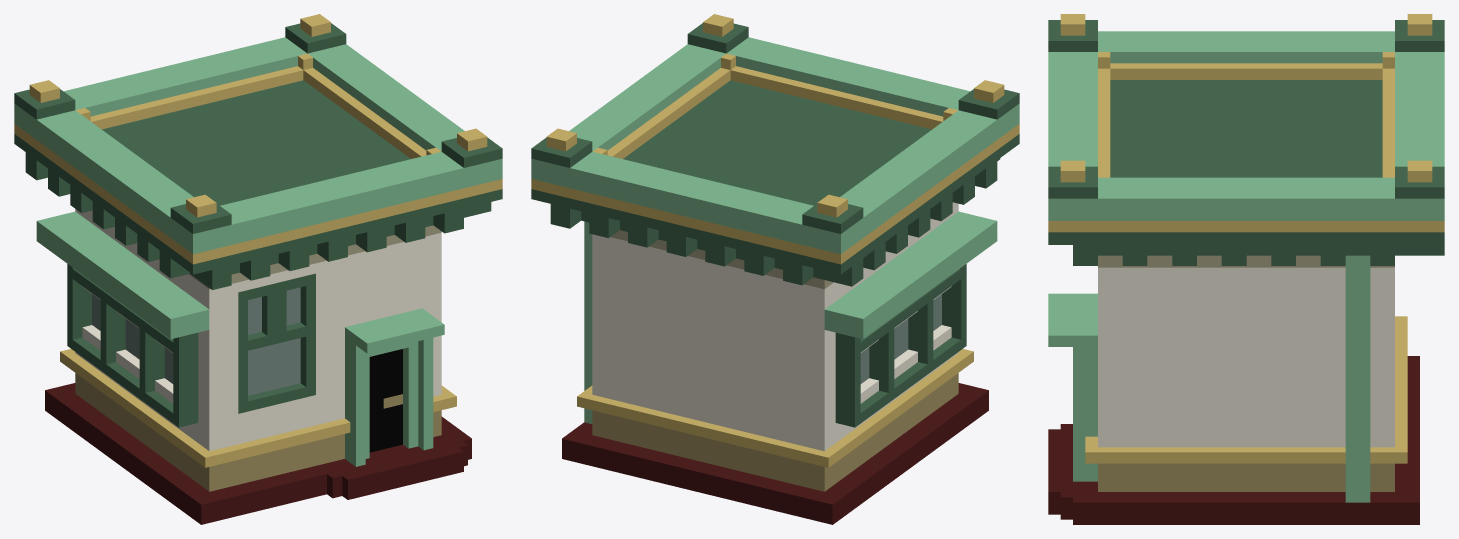
The model's file is tile_1_alone.obj.
The picture shows the model from 3 angles, left to right: view 1: azimuth 30°, elevation 25°; view 2: azimuth 150°, elevation 25°; view 3: azimuth 270°, elevation 25°; orthographic projection. The views are drawn at different scales.
Size of the model in its own units: 3.2 by 3.2 by 3.2.
